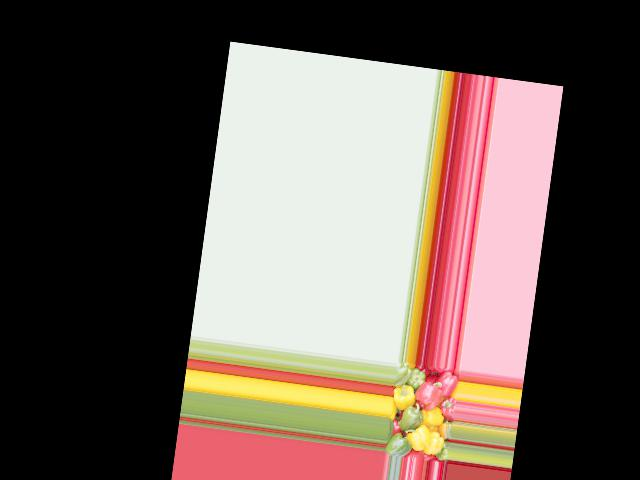bell_pepper: (437, 438, 450, 460)
